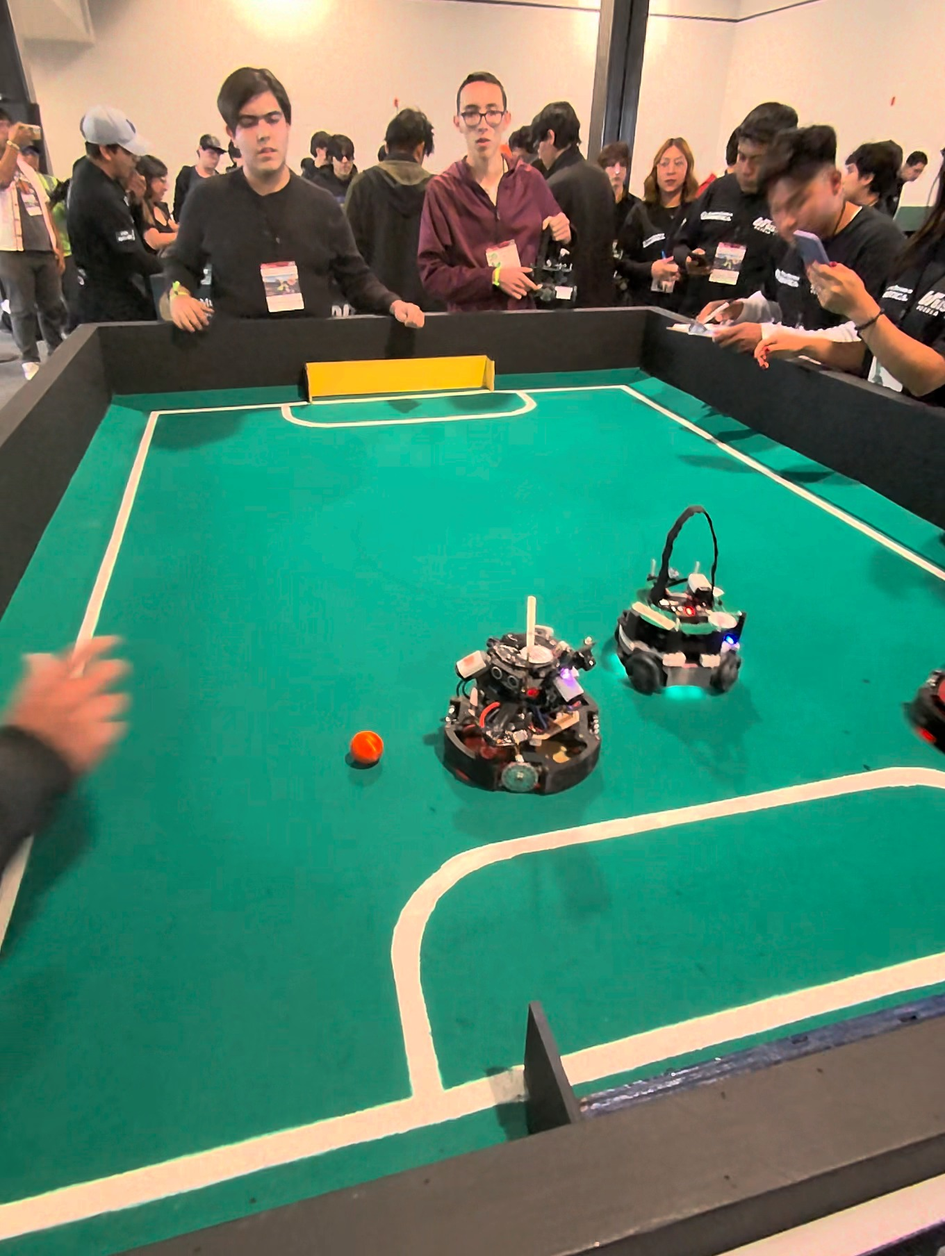Robot: (446, 610, 601, 800), (629, 506, 745, 699)
pelota: (347, 731, 385, 767)
